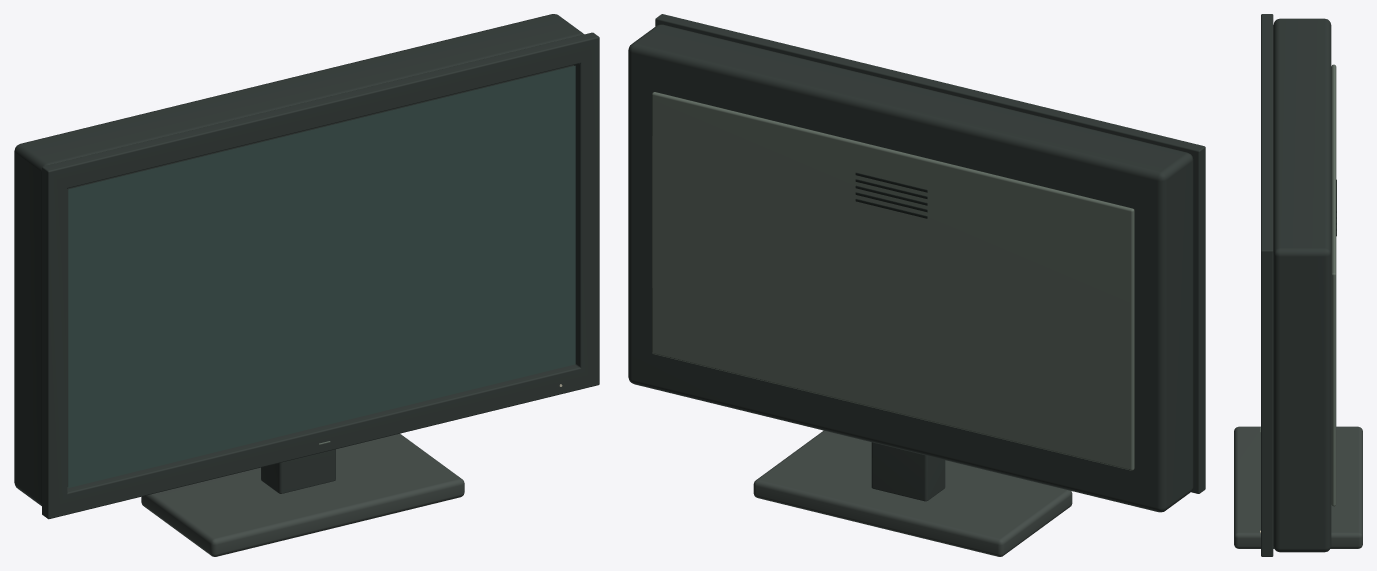
3 renders of one model, left to right at view 1: azimuth 30°, elevation 25°; view 2: azimuth 150°, elevation 25°; view 3: azimuth 270°, elevation 25°, orthographic. The views are drawn at different scales.
Parts seen in each view (by area): view 1: SM_TV_16x9__Screen, SM_TV_16x9__Body; view 2: SM_TV_16x9__Body; view 3: SM_TV_16x9__Body.
Part boxes in pixels (bbox=[...]): SM_TV_16x9__Screen: bbox=[68, 65, 575, 487]; SM_TV_16x9__Body: bbox=[14, 14, 599, 556]; SM_TV_16x9__Body: bbox=[628, 14, 1205, 556]; SM_TV_16x9__Body: bbox=[1234, 14, 1362, 556].
Size of the model in its own units: 1.74 by 1.25 by 0.4.
